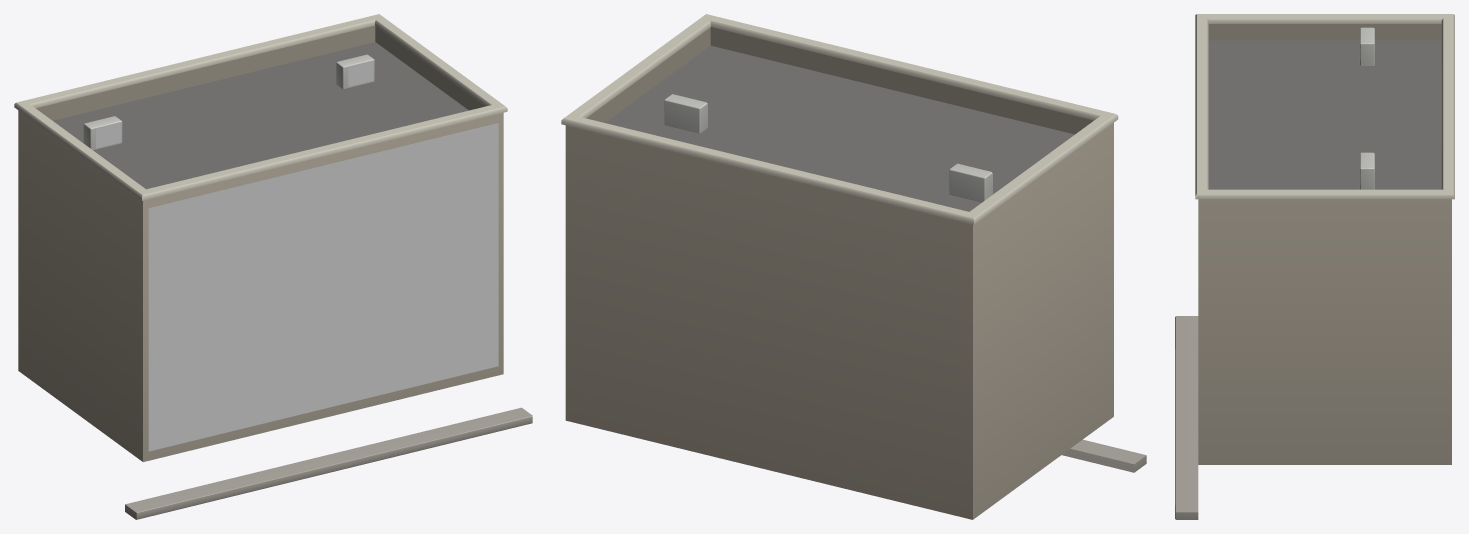
File: MuralWallMIA.fbx
3 renders of one model, left to right at view 1: azimuth 30°, elevation 25°; view 2: azimuth 150°, elevation 25°; view 3: azimuth 270°, elevation 25°, orthographic. The views are drawn at different scales.
Visible parts, largest first — view 1: MuralWallMIA; view 2: MuralWallMIA; view 3: MuralWallMIA.
Part boxes in pixels (bbox=[...]): MuralWallMIA: bbox=[14, 14, 532, 519]; MuralWallMIA: bbox=[561, 14, 1146, 519]; MuralWallMIA: bbox=[1175, 14, 1454, 519].
Bounding box in the file's own units: 11 × 8.32 × 6.62.
